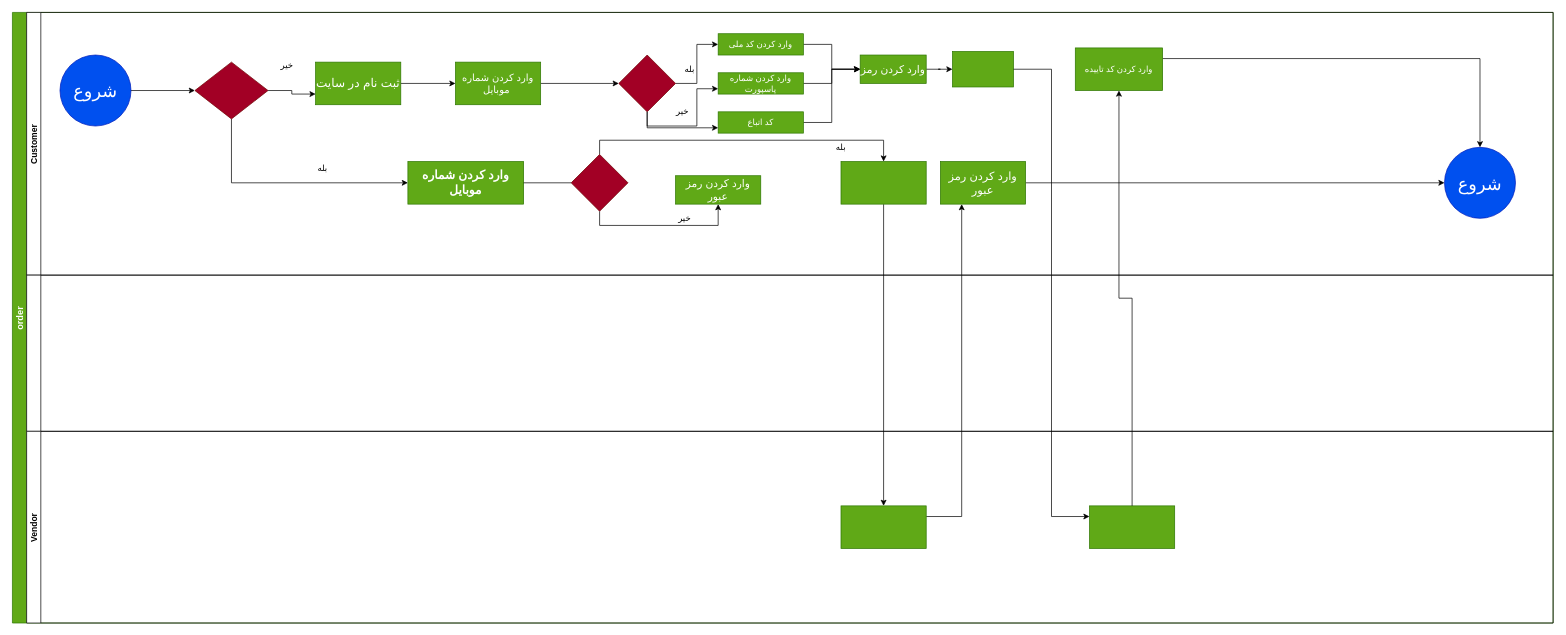
Image size: 1566x635. Some labels were removed from this diagram. The centre of each missing label's shape, as x and y in pixels:
"Postex" goes at [789,352].
"ارسال کرد تاییده" goes at [1132,526].
"ایرانی هستین" goes at [647,83].
"تایید قوانین" goes at [983,69].
"فراموشی رمز" goes at [599,182].
"قبلا ثبت نام کرده اید" goes at [231,90].
"وارد کردن موبایل" goes at [883,182].
"پیامک کردن رمز از طریق کاوه نگار" goes at [883,526].
